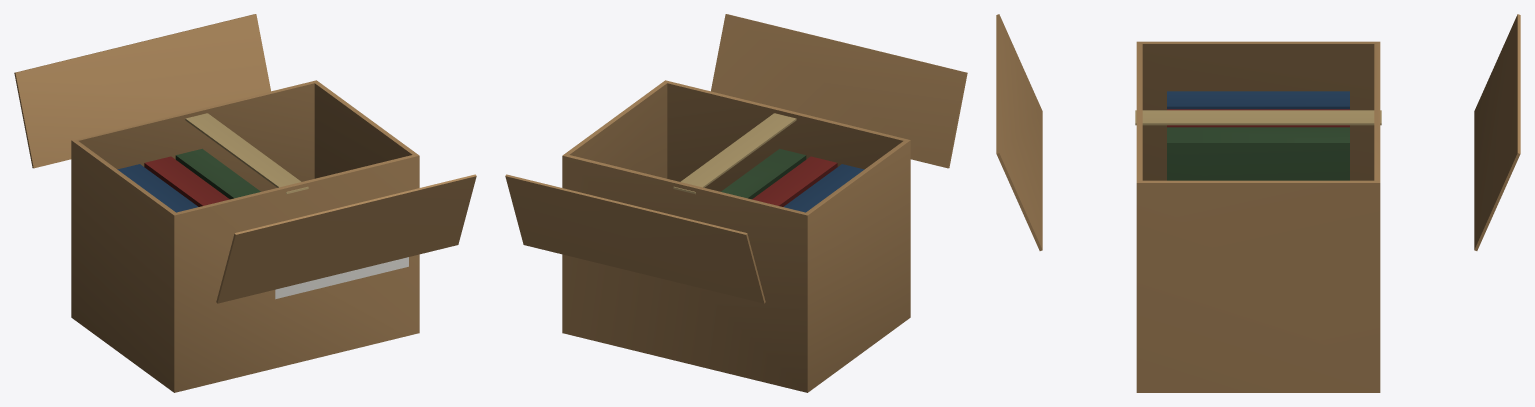
Rendered from adabox.glb.
3 views of the same model, side by side, from view 1: azimuth 30°, elevation 25°; view 2: azimuth 150°, elevation 25°; view 3: azimuth 270°, elevation 25° (orthographic). The views are drawn at different scales.
Visible parts, largest first — view 1: Scatolone, Etichetta; view 2: Scatolone; view 3: Scatolone.
Boxes of the visible parts, x1,y1,x2,y2 form: Scatolone: [14, 14, 476, 392]; Etichetta: [275, 257, 408, 299]; Scatolone: [505, 14, 967, 392]; Scatolone: [996, 14, 1520, 392].
Size of the model in its own units: 0.55 by 0.4321 by 0.86.
